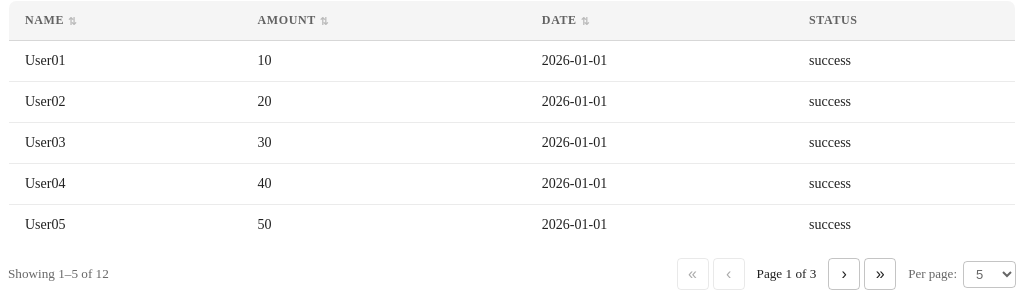
DataTable — pagination › navigates to next page
This screenshot has width=1024, height=307.
Click the button named "next page" at (844, 274), box [828,258,860,290]
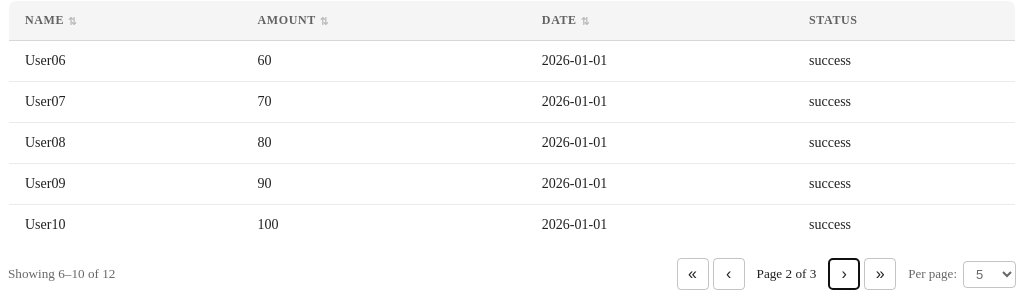
Check: the text "Page 2 of 3" is shown, box [756,266,816,281]
Check: the row "User06 60 2026-01-01 success" is shown, box [8,40,1016,82]
